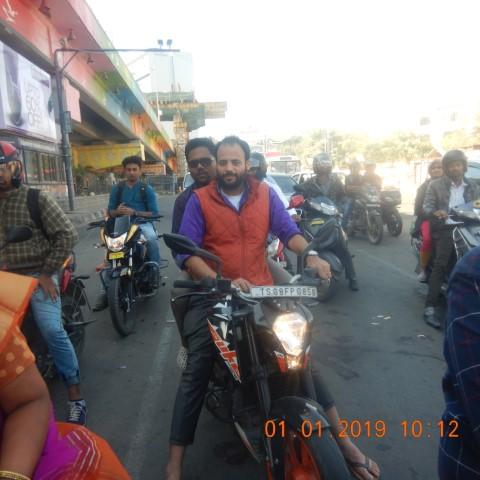plate: (253, 285, 319, 300)
